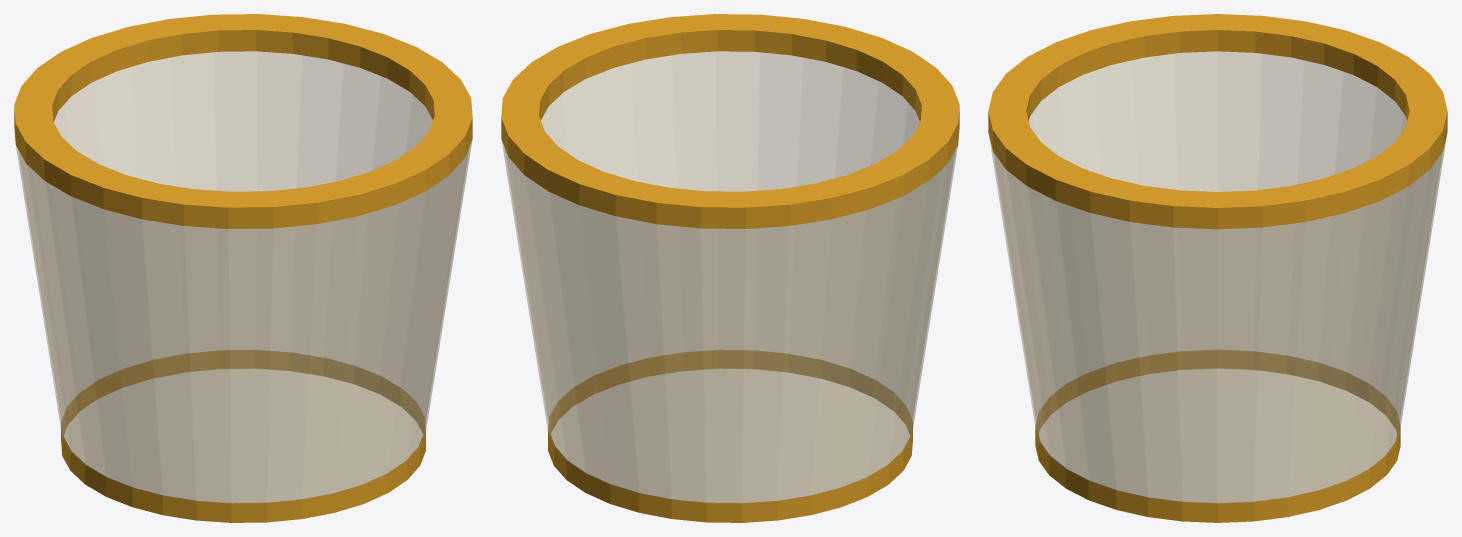
File: Turumpo orange basket.fbx
The picture shows the model from 3 angles, left to right: view 1: azimuth 30°, elevation 25°; view 2: azimuth 150°, elevation 25°; view 3: azimuth 270°, elevation 25°; orthographic projection.
Parts seen in each view (by area): view 1: Turumpo O basket; view 2: Turumpo O basket; view 3: Turumpo O basket.
Boxes of the visible parts, box(x1,y1,x2,y2) form: Turumpo O basket: box(14, 14, 472, 522); Turumpo O basket: box(501, 14, 959, 522); Turumpo O basket: box(988, 14, 1447, 522).
Size of the model in its own units: 283 by 227 by 283.
